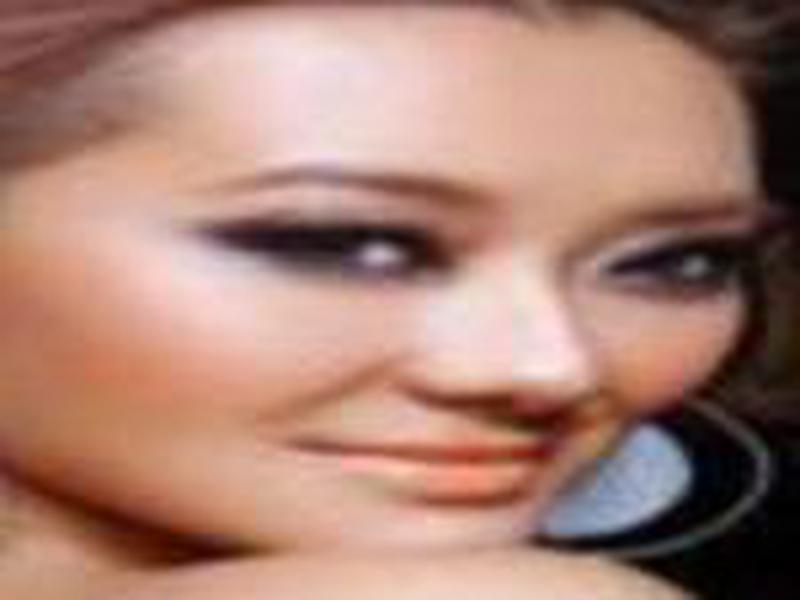without_mask: (38, 1, 757, 585)
